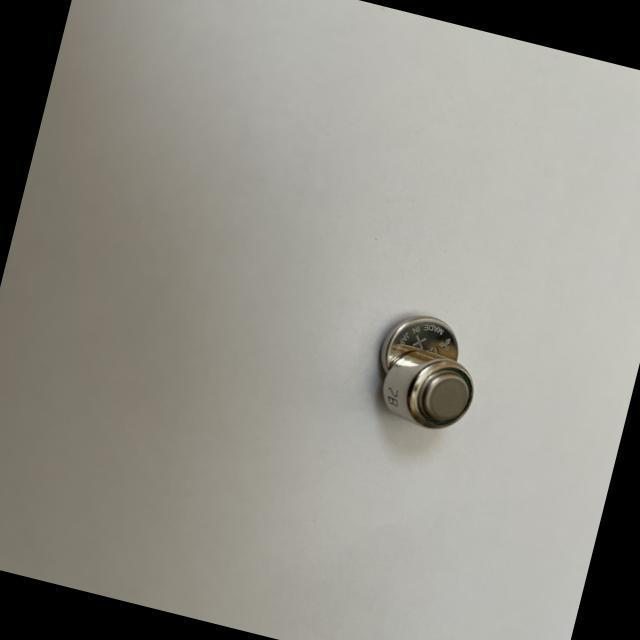COIN: (371, 342, 478, 438), (375, 308, 466, 387)
